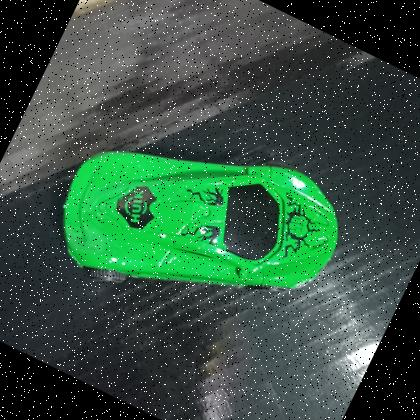Car: (27, 75, 366, 379)
